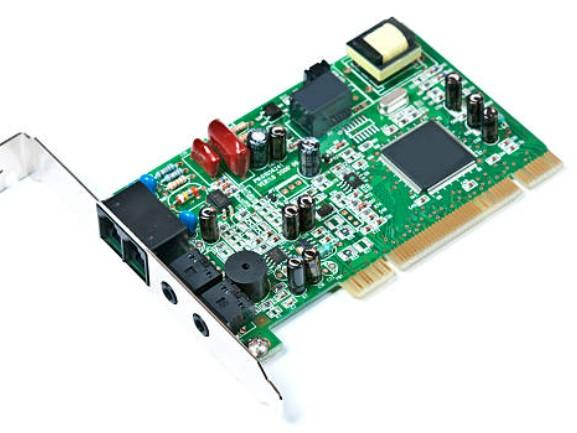Printed Circuit Board PCB: (97, 18, 563, 405)
